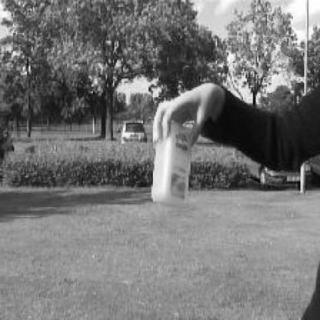other: (148, 114, 205, 212)
